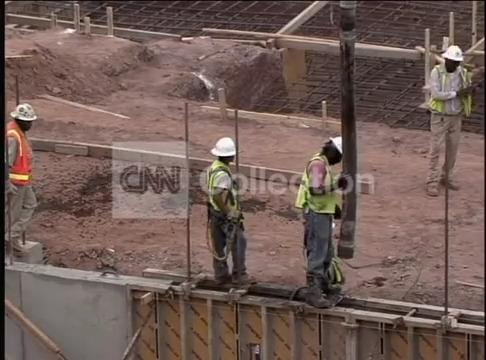Gloves: (337, 172, 350, 187), (225, 211, 241, 222)
Helmet: (9, 102, 37, 121), (211, 138, 236, 157), (329, 135, 349, 157), (445, 46, 464, 61)
Person: (293, 133, 349, 314), (199, 136, 256, 285), (422, 44, 472, 196), (2, 99, 39, 261)
Safety Boot: (305, 285, 331, 308), (5, 238, 27, 260), (229, 271, 252, 285), (444, 178, 462, 191), (425, 182, 439, 196)
Safety Vest: (208, 167, 239, 219), (3, 136, 35, 185), (306, 159, 335, 213), (434, 70, 469, 111)
bare-arms: (462, 82, 478, 99)
